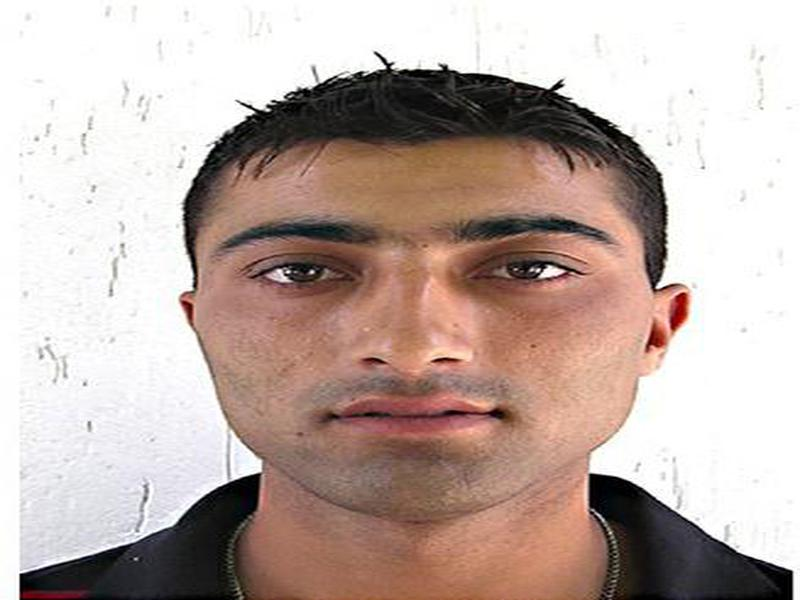without_mask: (195, 136, 651, 506)
